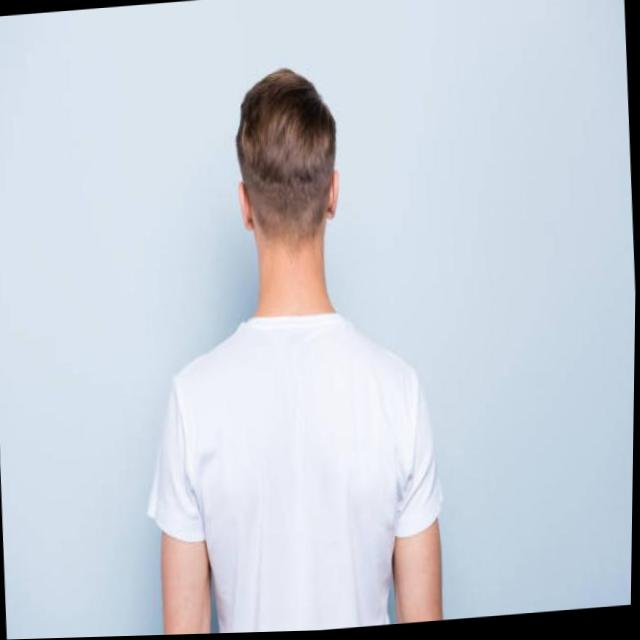no helmet: (213, 55, 357, 321)
